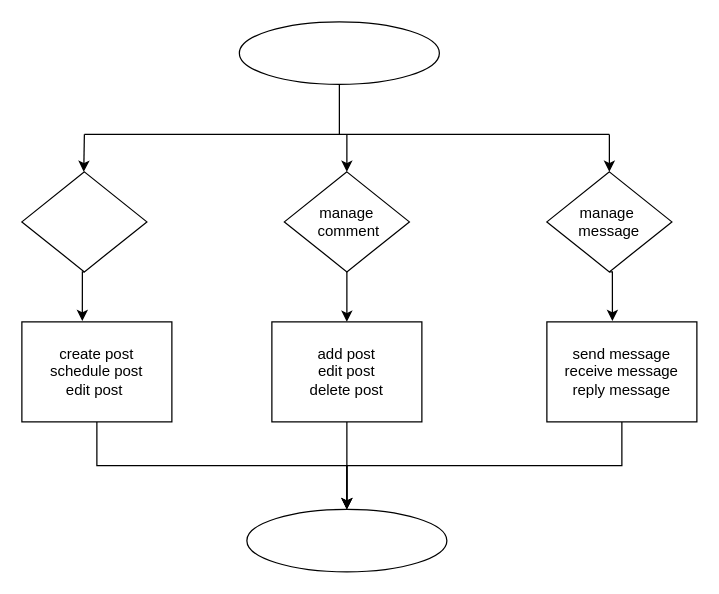
This 719x594 diagram has some shape labels left out. The centre of each missing label's shape, as x and y in pixels:
END: pixel 346 540
Manage post: pixel 84 221
START: pixel 338 52
